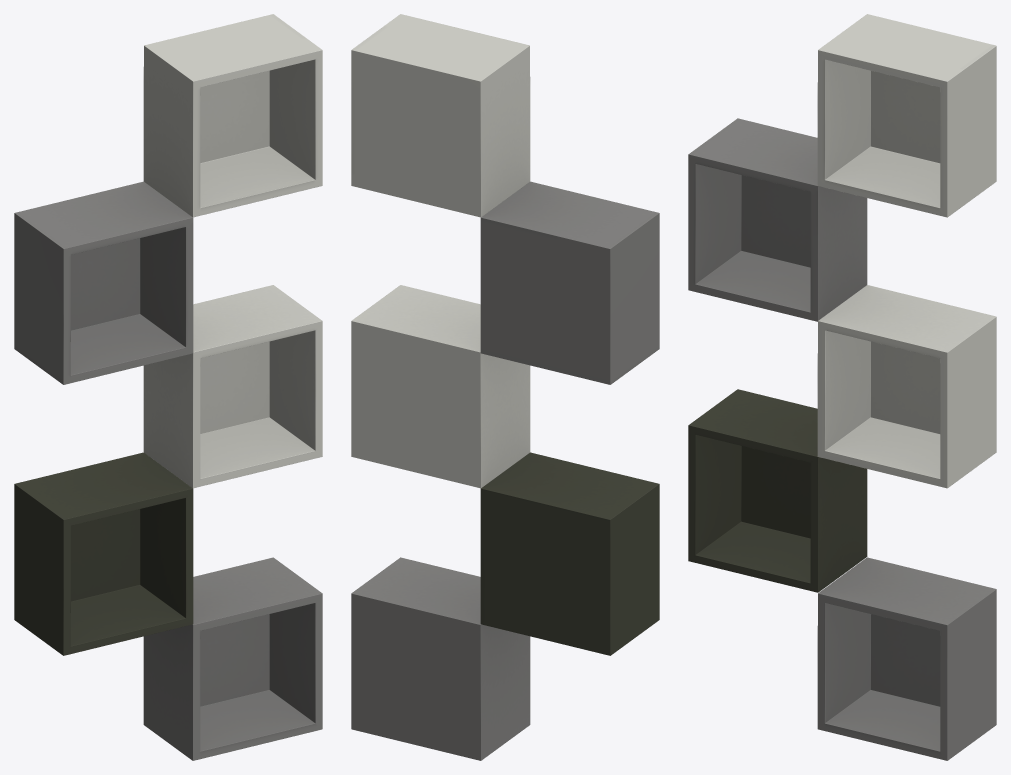
The model's file is Shelve_009_Colours.gltf.
3 views of the same model, side by side, from view 1: azimuth 30°, elevation 25°; view 2: azimuth 150°, elevation 25°; view 3: azimuth 330°, elevation 25° (orthographic).
Visible parts, largest first — view 1: Shelve_009; view 2: Shelve_009; view 3: Shelve_009.
Boxes of the visible parts, left/top/right/bottom form: Shelve_009: left=14, top=14, right=322, bottom=760; Shelve_009: left=351, top=14, right=659, bottom=760; Shelve_009: left=688, top=14, right=996, bottom=760.
Size of the model in its own units: 0.6975 by 1.75 by 0.2299.
Materials: 1 (1 with a texture image).
